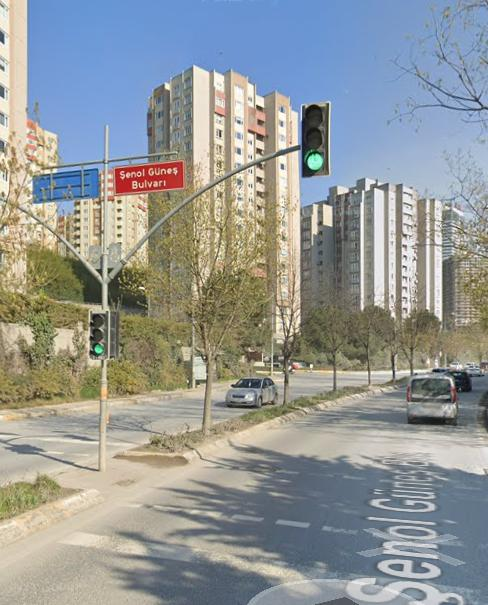greenlight: (300, 103, 330, 178), (90, 310, 109, 360)
